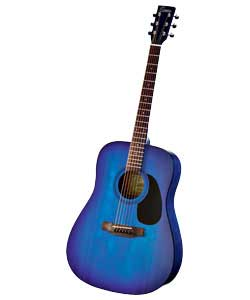guitar: (65, 5, 183, 296)
